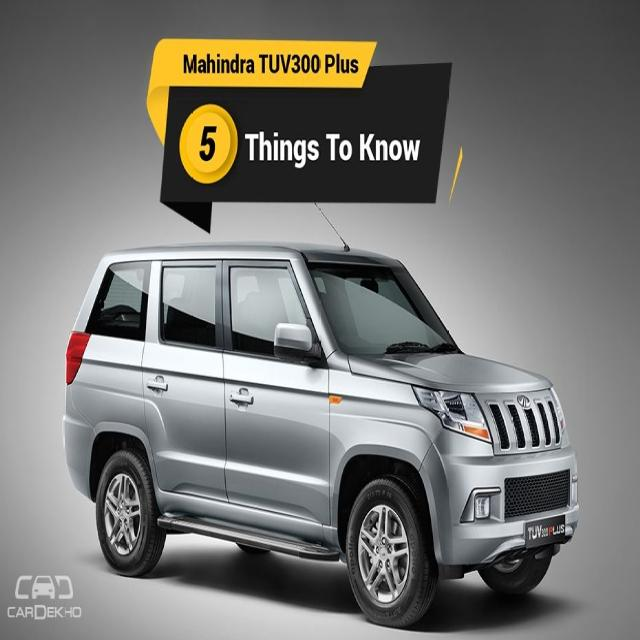light_vehicle: (54, 243, 582, 605)
